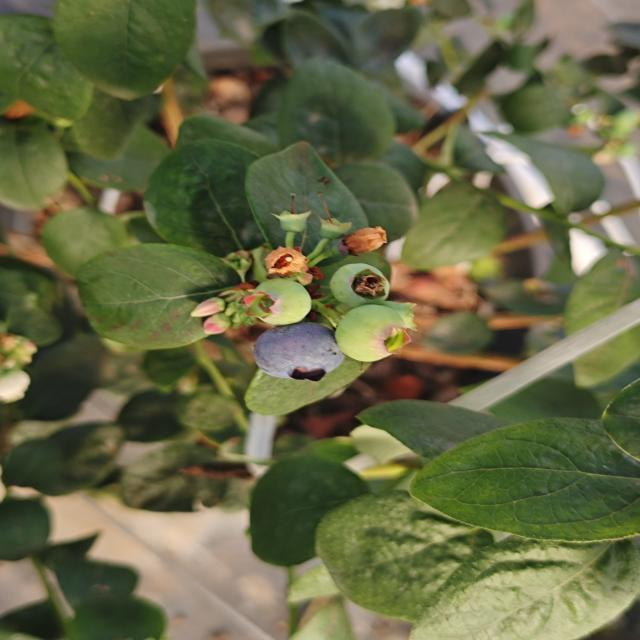ripe: (260, 318, 358, 387)
